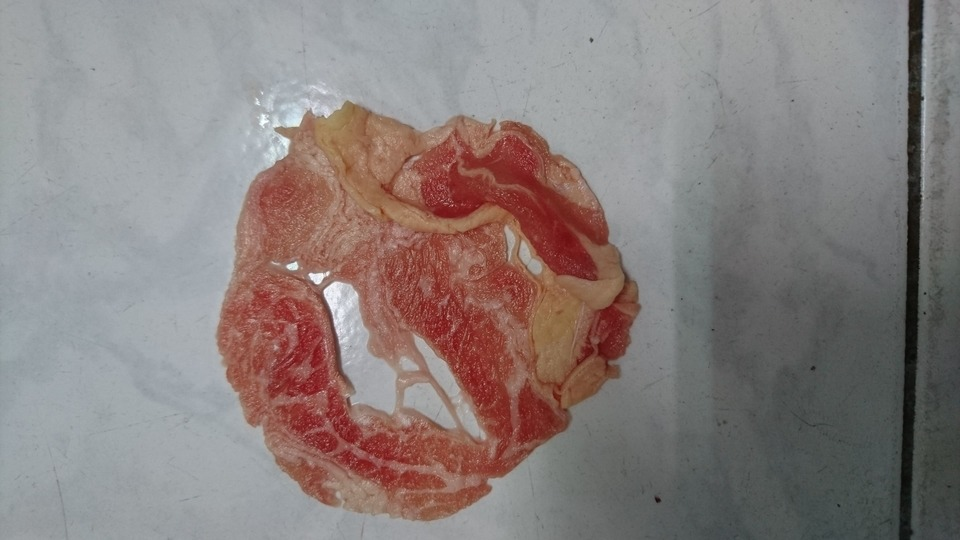restructured meat: (202, 87, 637, 527)
